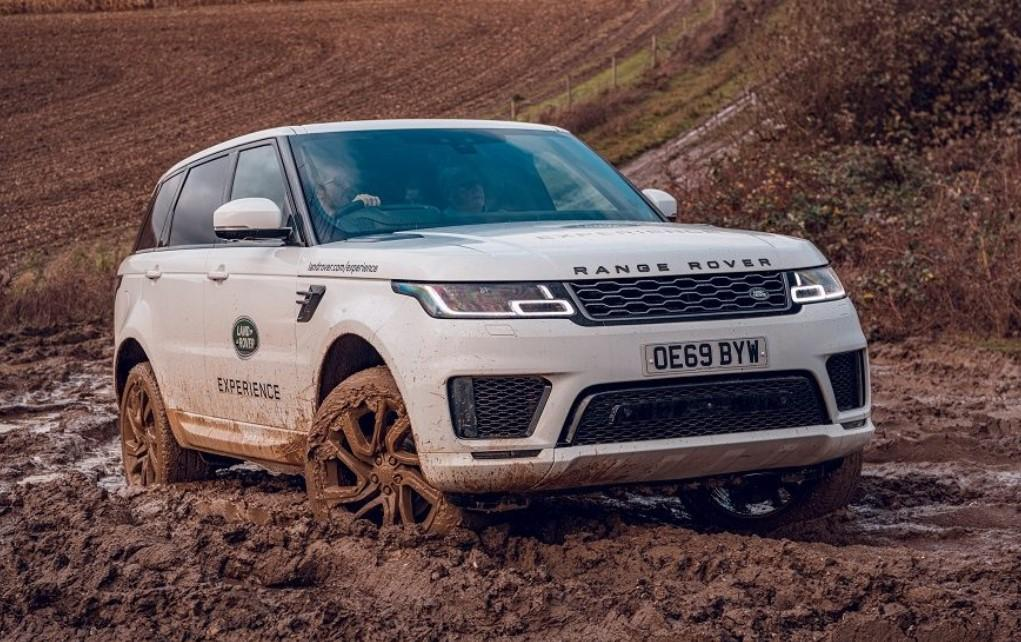range rover: (567, 248, 780, 283)
